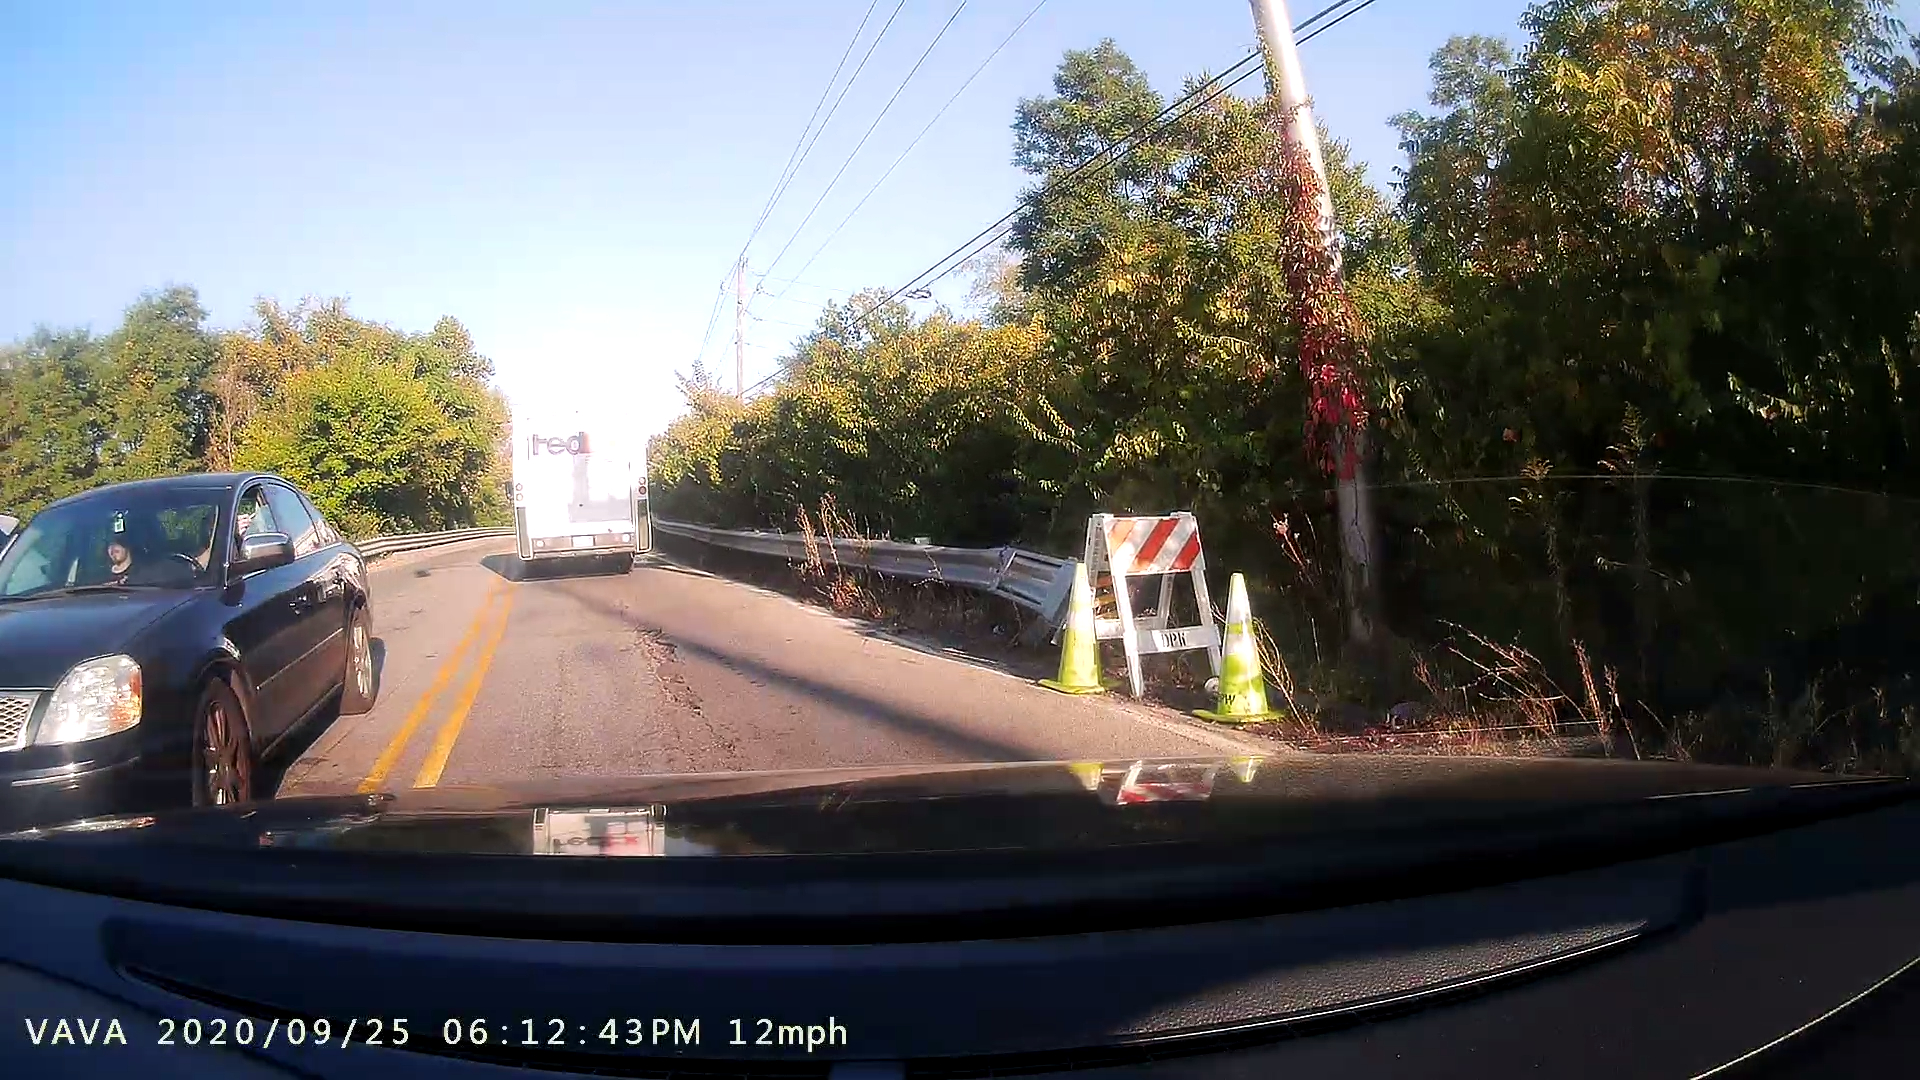const_cone: (1184, 560, 1302, 732), (1023, 563, 1134, 698)
